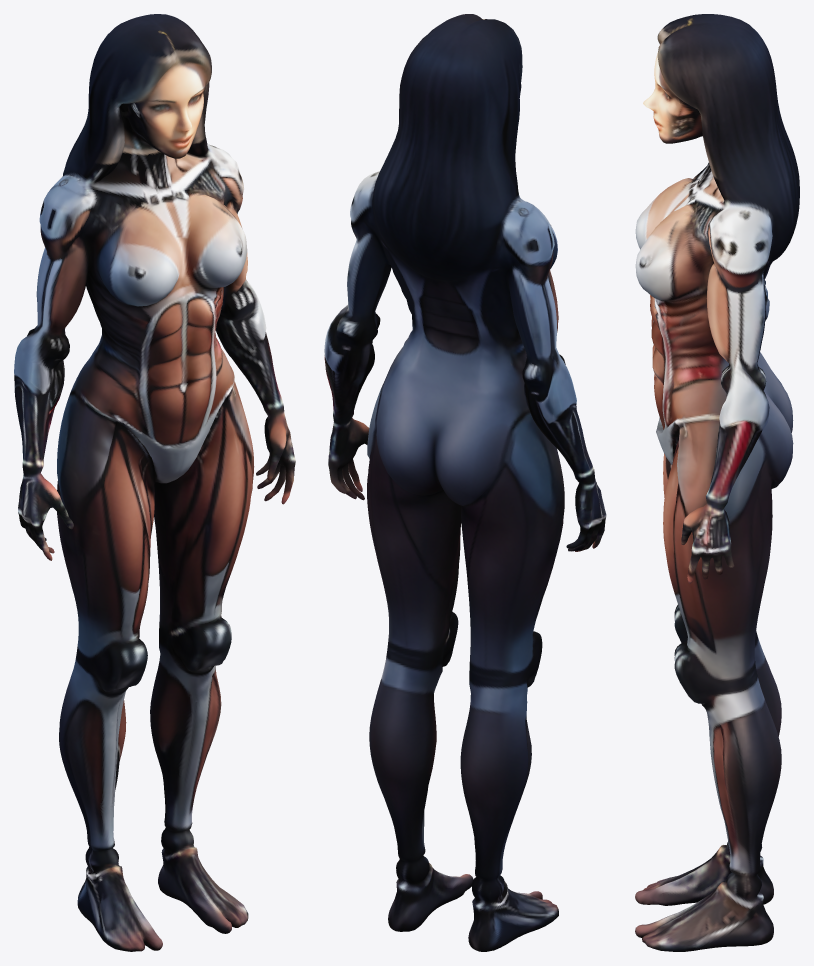
The model's file is base_basic_shaded.fbx.
The picture shows the model from 3 angles, left to right: view 1: azimuth 30°, elevation 25°; view 2: azimuth 150°, elevation 25°; view 3: azimuth 270°, elevation 25°; orthographic projection.
Parts seen in each view (by area): view 1: model; view 2: model; view 3: model.
Part boxes in pixels (<box>): model: <box>14,14,295,951</box>; model: <box>324,14,606,951</box>; model: <box>635,14,799,951</box>.
Size of the model in its own units: 59.11 by 189 by 31.36.
